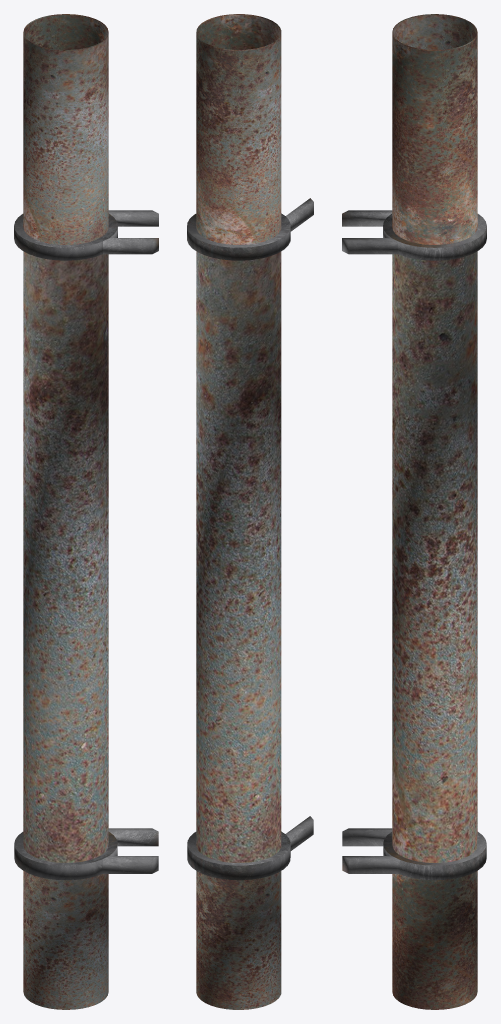
The model's file is RustPipe_originfix.fbx.
3 views of the same model, side by side, from view 1: azimuth 90°, elevation 25°; view 2: azimuth 150°, elevation 25°; view 3: azimuth 270°, elevation 25° (orthographic).
Parts seen in each view (by area): view 1: Cylinder; view 2: Cylinder; view 3: Cylinder.
Boxes of the visible parts, x1=… form: Cylinder: x1=14, y1=14, x2=158, y2=1009; Cylinder: x1=187, y1=14, x2=313, y2=1009; Cylinder: x1=342, y1=14, x2=486, y2=1009.
Size of the model in its own units: 0.3683 by 3.75 by 0.513.
